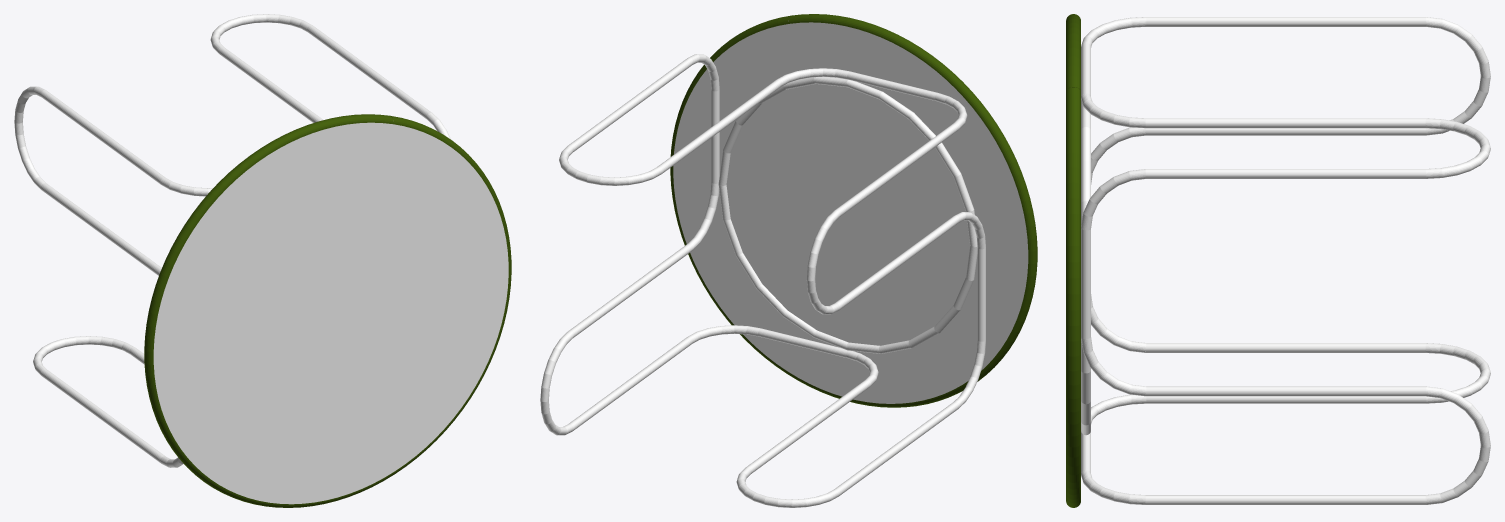
3 renders of one model, left to right at view 1: azimuth 30°, elevation 25°; view 2: azimuth 150°, elevation 25°; view 3: azimuth 270°, elevation 25°, orthographic. The views are drawn at different scales.
Visible parts, largest first — view 1: end table paper clip base amp glass top by john a weick ra amp a; view 2: end table paper clip base amp glass top by john a weick ra amp a; view 3: end table paper clip base amp glass top by john a weick ra amp a.
Boxes of the visible parts, x1,y1,x2,y2 form: end table paper clip base amp glass top by john a weick ra amp a: (14, 14, 511, 507); end table paper clip base amp glass top by john a weick ra amp a: (540, 14, 1037, 507); end table paper clip base amp glass top by john a weick ra amp a: (1066, 14, 1490, 507).
Bounding box in the file's own units: 24.7 × 24.7 × 21.25.
